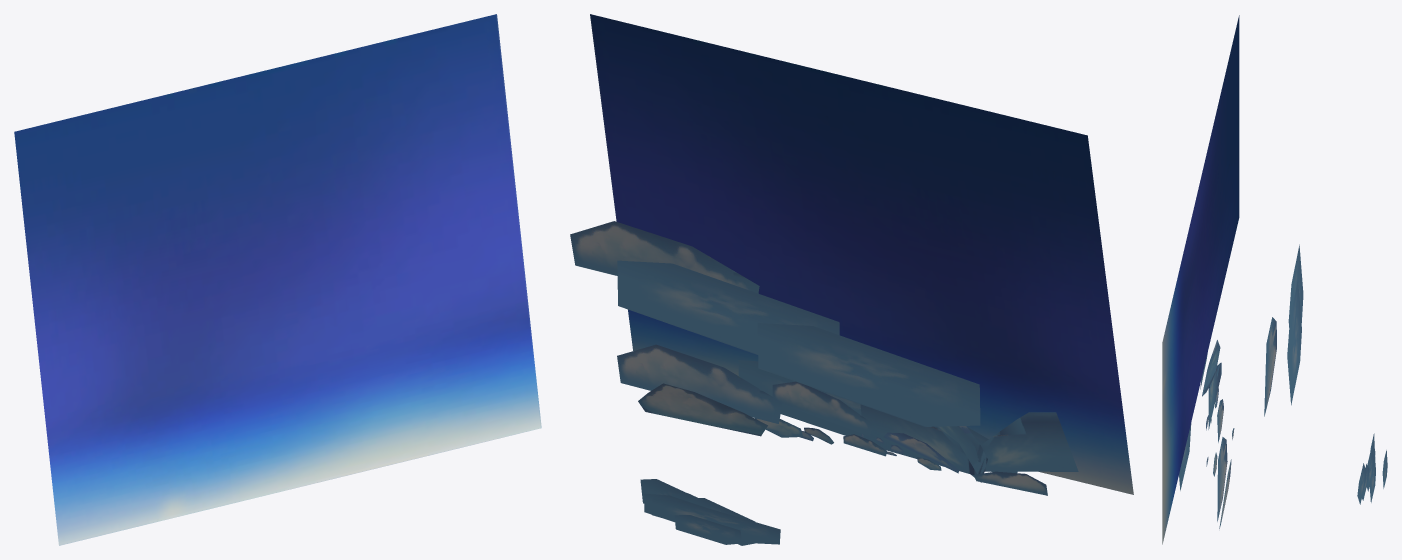
Rendered from pref_sce_081501_cloud03_lv3.fbx.
3 renders of one model, left to right at view 1: azimuth 30°, elevation 25°; view 2: azimuth 150°, elevation 25°; view 3: azimuth 270°, elevation 25°, orthographic. The views are drawn at different scales.
Visible parts, largest first — view 1: pref_sce_081501_cloud03_lv3; view 2: pref_sce_081501_cloud03_lv3; view 3: pref_sce_081501_cloud03_lv3.
Boxes of the visible parts, x1,y1,x2,y2 form: pref_sce_081501_cloud03_lv3: (14, 14, 541, 545); pref_sce_081501_cloud03_lv3: (570, 14, 1133, 545); pref_sce_081501_cloud03_lv3: (1162, 15, 1387, 544).
Size of the model in its own units: 203 by 164 by 94.99.
